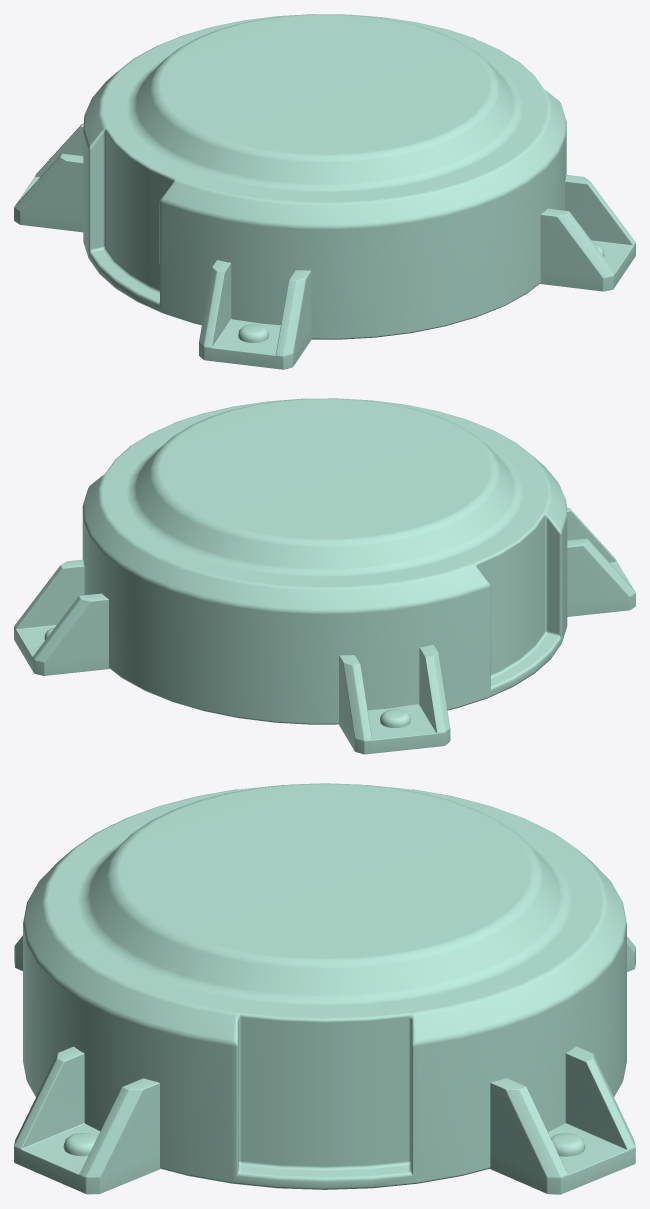
File: SM_Robot_Hand_part01.fbx
The picture shows the model from 3 angles, top to bottom: view 1: azimuth 30°, elevation 25°; view 2: azimuth 150°, elevation 25°; view 3: azimuth 270°, elevation 25°; orthographic projection. The views are drawn at different scales.
Visible parts, largest first — view 1: SM_Robot_Hand_part01; view 2: SM_Robot_Hand_part01; view 3: SM_Robot_Hand_part01.
Part boxes in pixels (bbox=[...]): SM_Robot_Hand_part01: bbox=[14, 14, 635, 369]; SM_Robot_Hand_part01: bbox=[14, 398, 635, 754]; SM_Robot_Hand_part01: bbox=[14, 783, 635, 1194].
Size of the model in its own units: 64.58 by 22 by 64.58.
